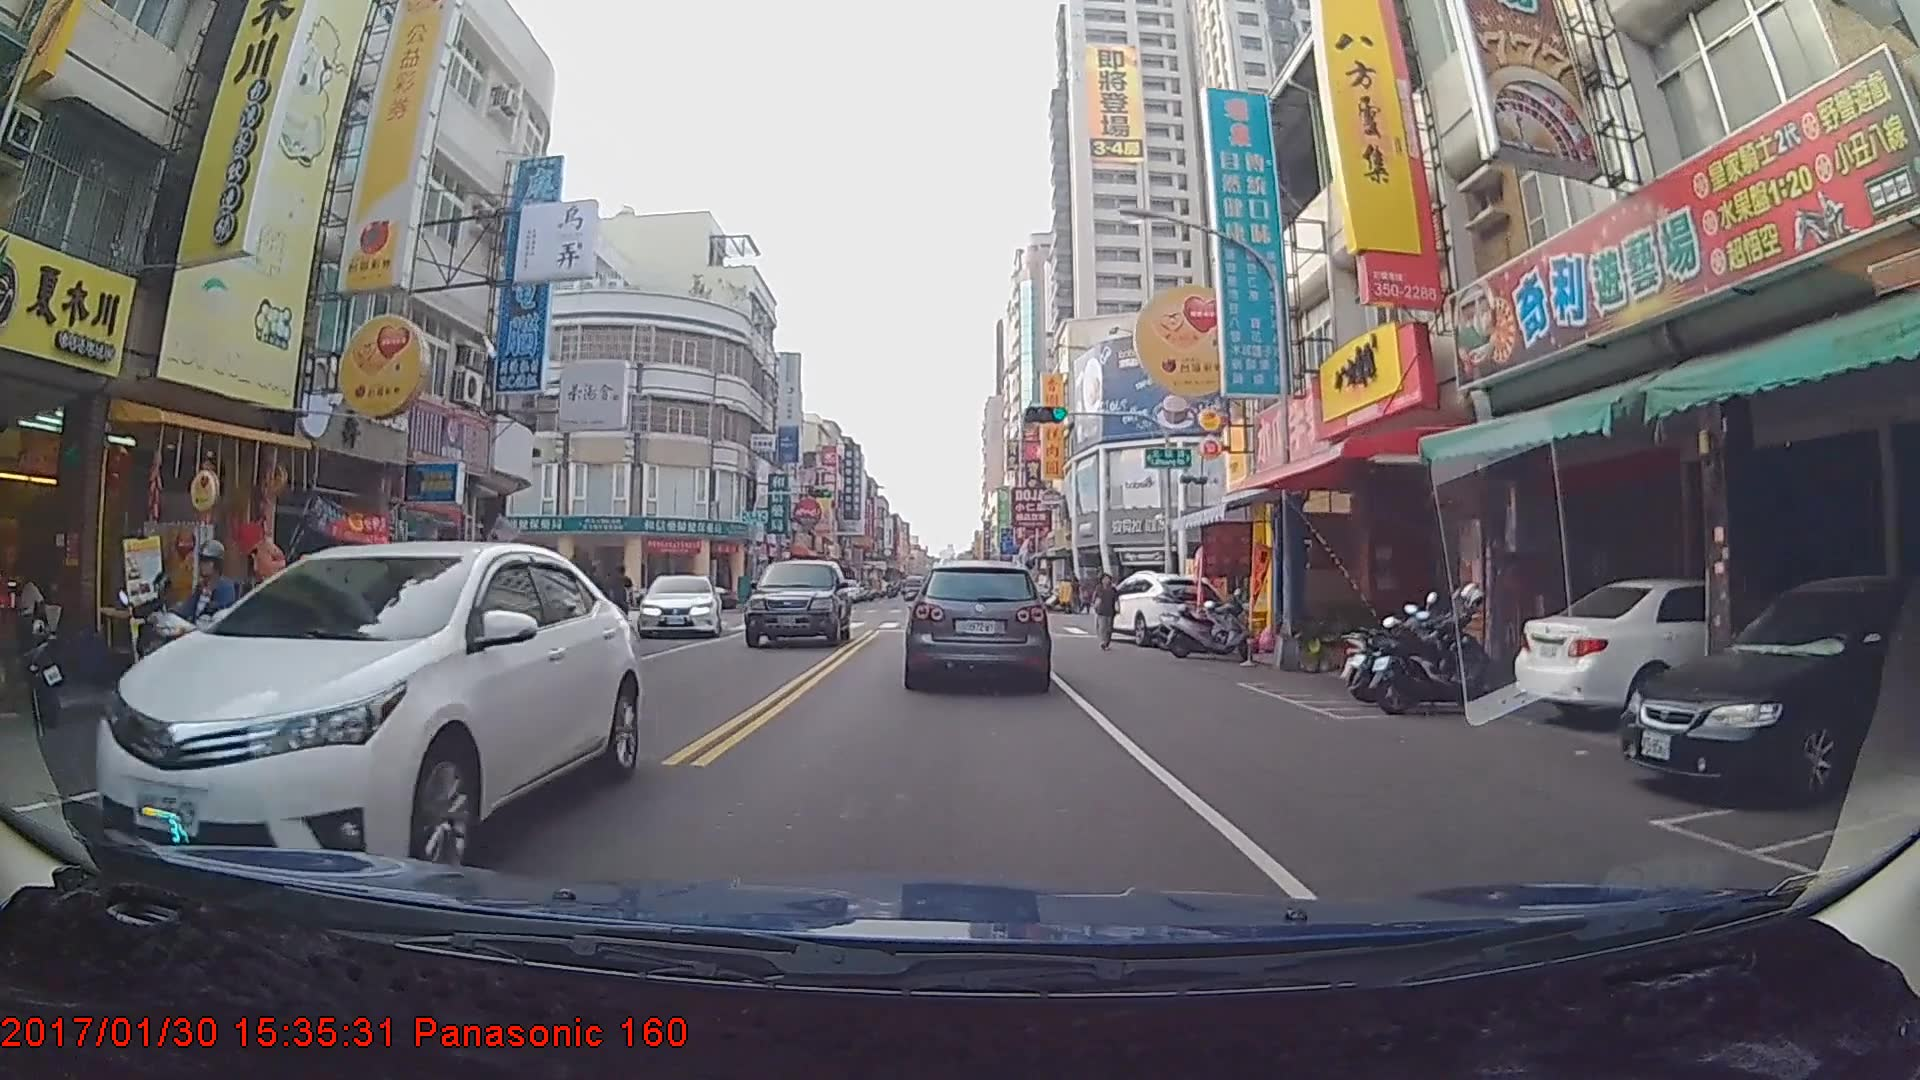pedestrian: (1093, 573, 1121, 652), (607, 564, 636, 637)
vehicle: (84, 539, 637, 890), (1613, 562, 1920, 808), (906, 558, 1049, 690), (1089, 574, 1232, 649), (746, 557, 851, 649), (637, 572, 719, 637), (901, 575, 927, 603)
